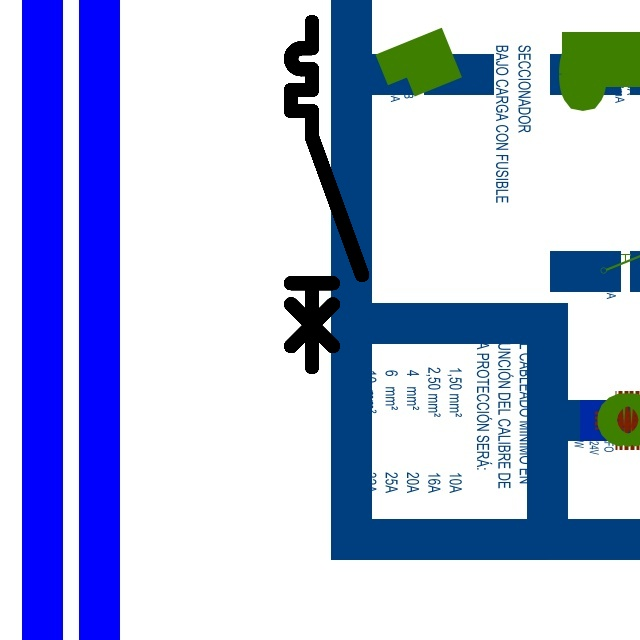interruptor_termomagnetico: (282, 13, 371, 376)
